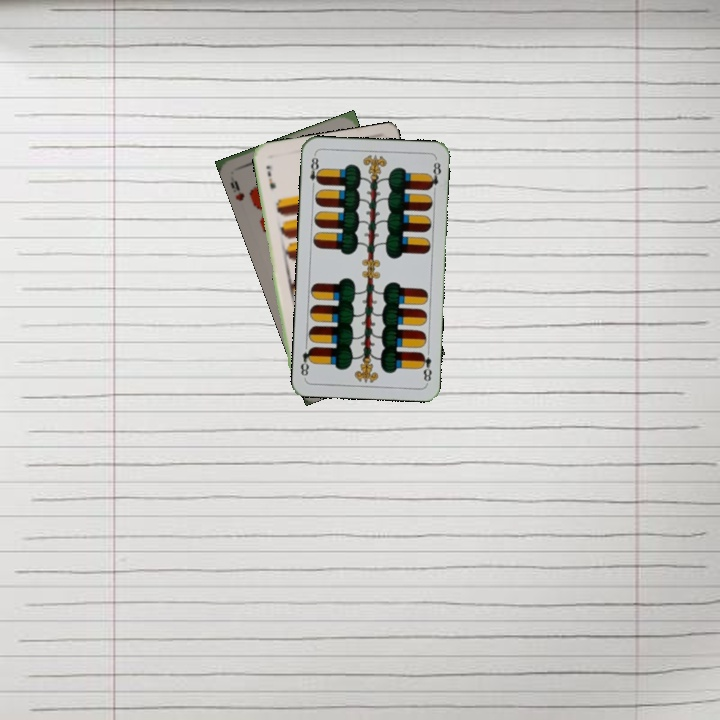E7: (262, 161, 279, 191)
E8: (306, 151, 323, 192), (416, 348, 434, 384)
H9: (226, 177, 247, 204)
